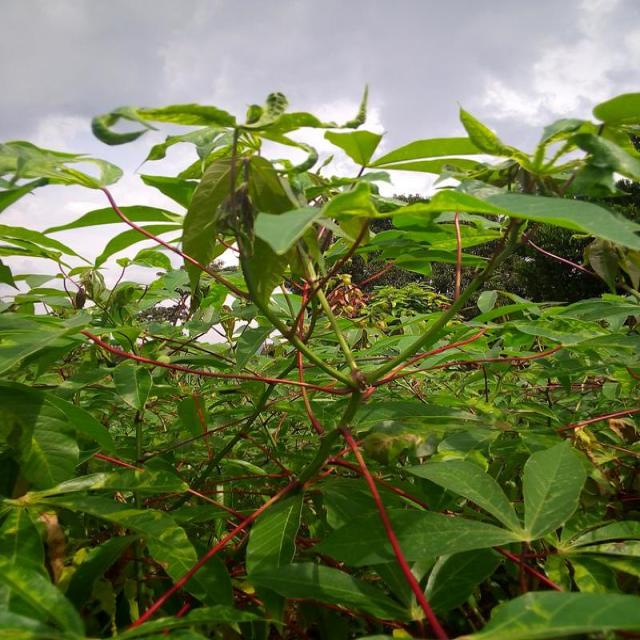cassava leaf: (2, 84, 640, 637), (522, 438, 589, 541)
